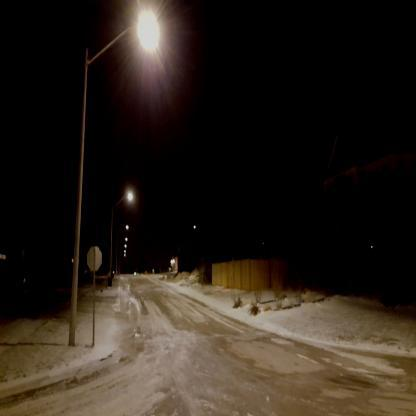light_pole: (67, 9, 160, 346), (108, 191, 134, 288), (115, 224, 129, 275), (118, 237, 128, 278)
